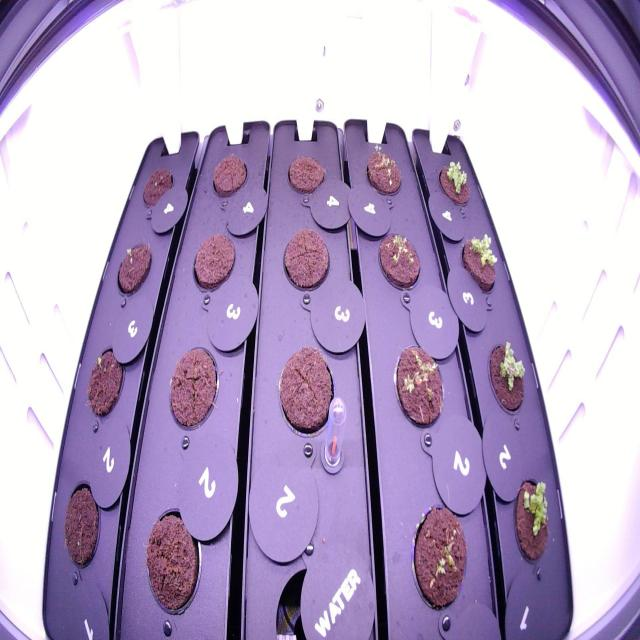germination: (407, 496, 471, 622), (389, 336, 448, 434), (508, 464, 557, 578), (81, 338, 131, 429), (483, 333, 532, 424), (372, 221, 424, 303), (111, 227, 160, 304), (457, 222, 504, 302), (360, 138, 408, 206), (430, 150, 474, 217)
pod: (140, 497, 207, 625), (273, 336, 338, 450), (164, 338, 221, 441), (54, 474, 106, 582), (278, 221, 334, 304), (188, 227, 242, 299), (280, 148, 330, 206), (208, 146, 251, 208), (140, 158, 179, 214)
